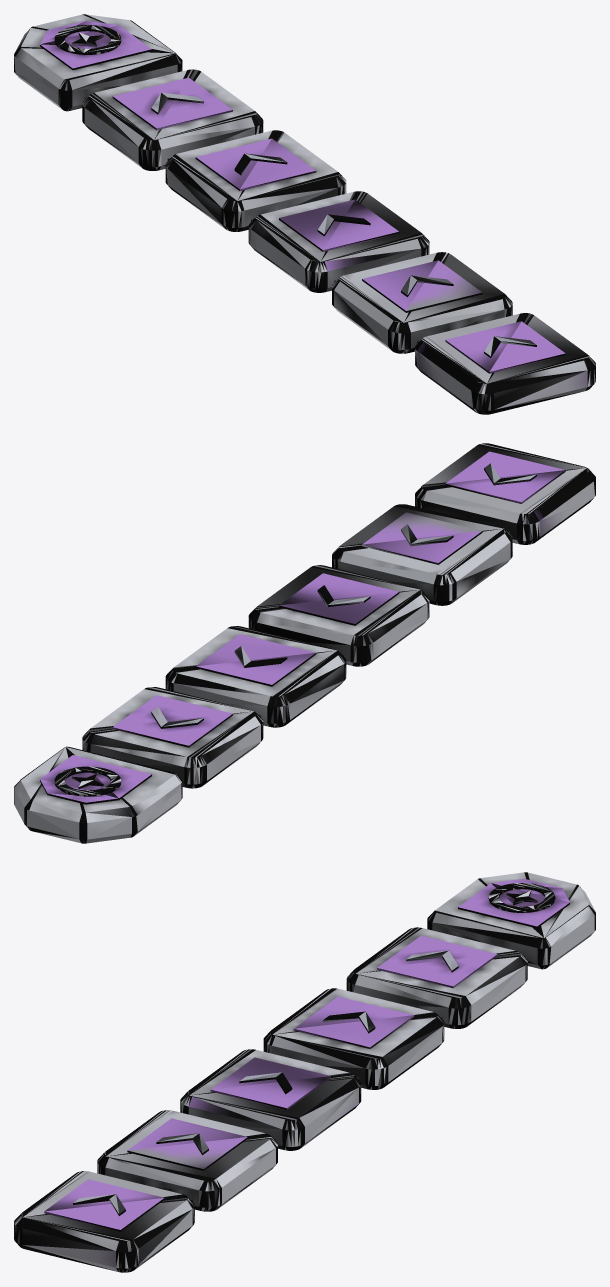
Rendered from FinalLane6_Purpura.glb.
3 renders of one model, top to bottom at view 1: azimuth 30°, elevation 25°; view 2: azimuth 150°, elevation 25°; view 3: azimuth 330°, elevation 25°, orthographic.
Visible parts, largest first — view 1: Tile_1_Body, Tile_3_Body, Tile_5_Body, Tile_4_Body, Tile_2_Body, Tile_6_Body, Tile_1_TeamInset, Tile_2_TeamInset, Tile_4_TeamInset, Tile_5_TeamInset, Tile_3_TeamInset, Tile_6_TeamInset (+1 smaller); view 2: Tile_6_Body, Tile_4_Body, Tile_3_Body, Tile_1_Body, Tile_2_Body, Tile_5_Body, Tile_4_TeamInset, Tile_2_TeamInset, Tile_3_TeamInset, Tile_5_TeamInset, Tile_1_TeamInset, Tile_6_TeamInset (+1 smaller); view 3: Tile_1_Body, Tile_3_Body, Tile_5_Body, Tile_4_Body, Tile_2_Body, Tile_6_Body, Tile_1_TeamInset, Tile_2_TeamInset, Tile_4_TeamInset, Tile_5_TeamInset, Tile_3_TeamInset, Tile_6_TeamInset (+1 smaller).
Boxes of the visible parts, box(x1,y1,x2,y2) form: Tile_1_Body: box(415, 313, 595, 414); Tile_3_Body: box(248, 191, 429, 292); Tile_5_Body: box(82, 69, 263, 170); Tile_4_Body: box(165, 130, 346, 231); Tile_2_Body: box(332, 252, 512, 353); Tile_6_Body: box(14, 14, 182, 111); Tile_1_TeamInset: box(445, 321, 565, 373); Tile_2_TeamInset: box(362, 260, 482, 312); Tile_4_TeamInset: box(195, 138, 316, 190); Tile_5_TeamInset: box(112, 77, 232, 130); Tile_3_TeamInset: box(279, 199, 399, 251); Tile_6_TeamInset: box(40, 20, 151, 70); Tile_6_Body: box(14, 746, 182, 843); Tile_4_Body: box(165, 626, 346, 727); Tile_3_Body: box(248, 565, 429, 666); Tile_1_Body: box(415, 443, 595, 544); Tile_2_Body: box(332, 504, 512, 605); Tile_5_Body: box(82, 687, 263, 788); Tile_4_TeamInset: box(195, 634, 316, 686); Tile_2_TeamInset: box(362, 512, 482, 564); Tile_3_TeamInset: box(279, 573, 399, 625); Tile_5_TeamInset: box(112, 695, 232, 747); Tile_1_TeamInset: box(445, 451, 565, 503); Tile_6_TeamInset: box(40, 755, 151, 804); Tile_1_Body: box(14, 1171, 194, 1272); Tile_3_Body: box(180, 1049, 361, 1150); Tile_5_Body: box(346, 927, 527, 1028); Tile_4_Body: box(263, 988, 444, 1089); Tile_2_Body: box(97, 1110, 277, 1211); Tile_6_Body: box(427, 872, 595, 969); Tile_1_TeamInset: box(44, 1179, 164, 1231); Tile_2_TeamInset: box(127, 1118, 247, 1170); Tile_4_TeamInset: box(293, 996, 414, 1048); Tile_5_TeamInset: box(377, 935, 497, 988); Tile_3_TeamInset: box(210, 1057, 330, 1109); Tile_6_TeamInset: box(458, 878, 569, 928).
Bounding box in the file's own units: 0.85 × 0.225 × 5.85.
Materials: 5 (5 with a texture image).
